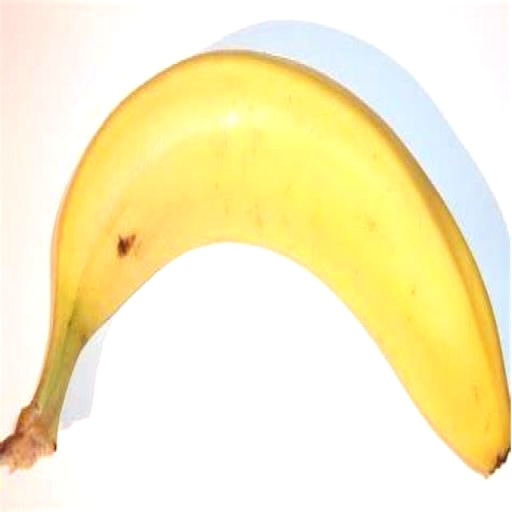fruit: (0, 52, 509, 475)
